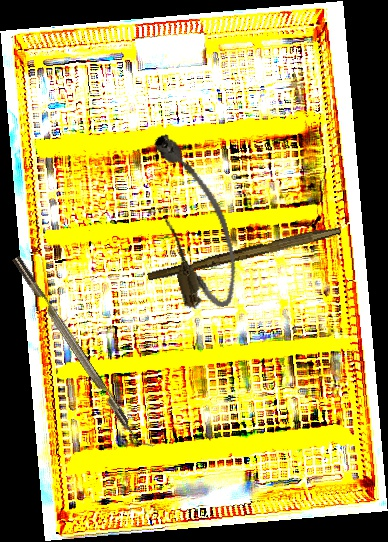Cannula: (143, 125, 246, 316)
Chopper: (12, 249, 156, 456)
Scalpel Handle: (146, 220, 342, 286)
